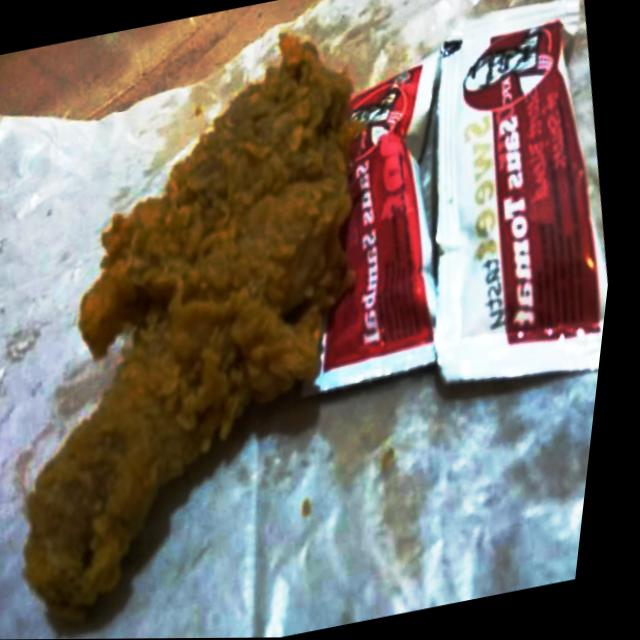fried_chicken: (0, 21, 454, 640)
